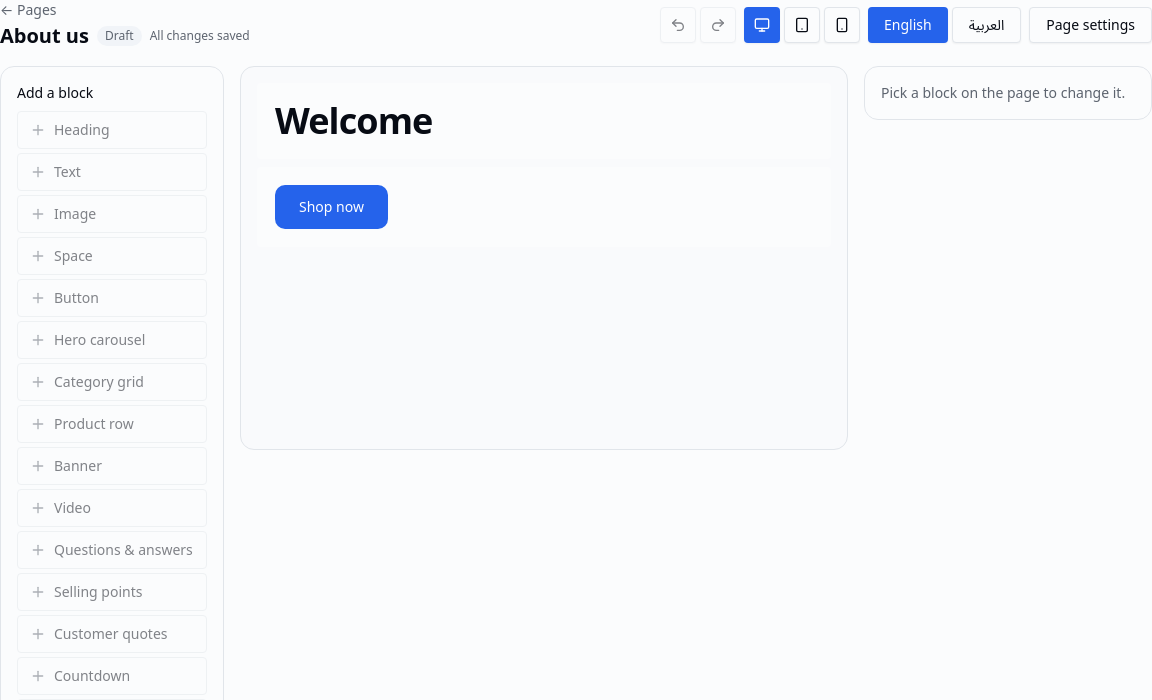
page settings › is read-only for staff who may not edit pages
This screenshot has width=1152, height=700.
Click the button "Page settings" at (1091, 25), box [1029, 7, 1151, 43]
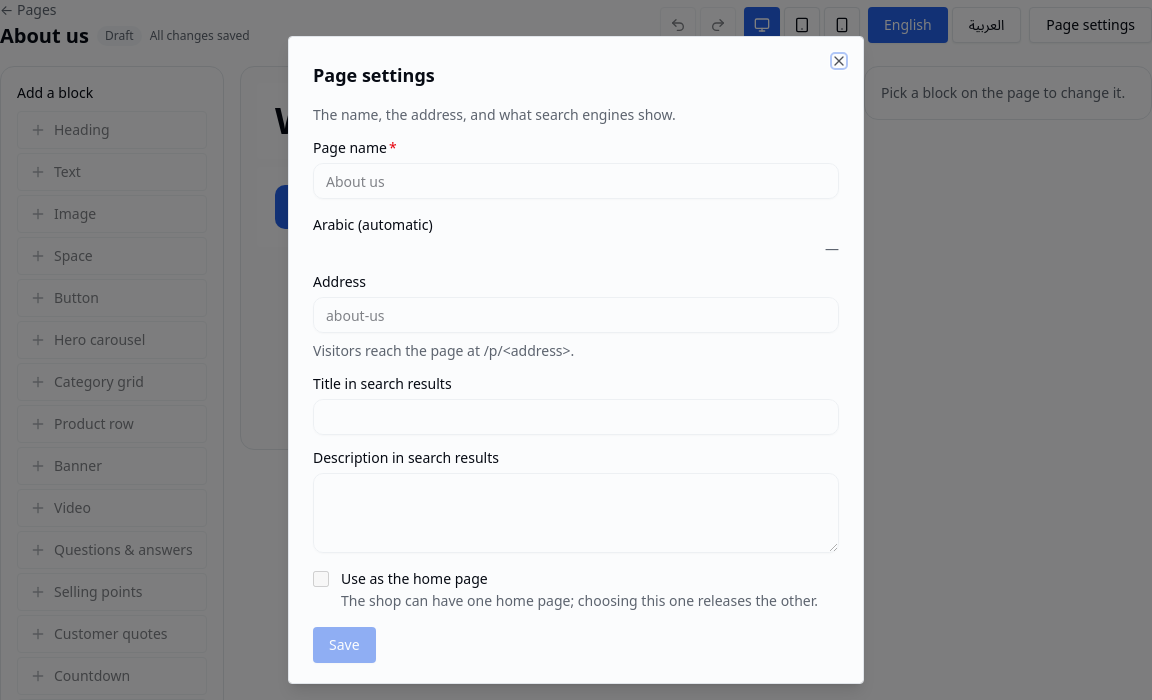
Now the field labelled "Page name*" is disabled, box [313, 163, 839, 199]
